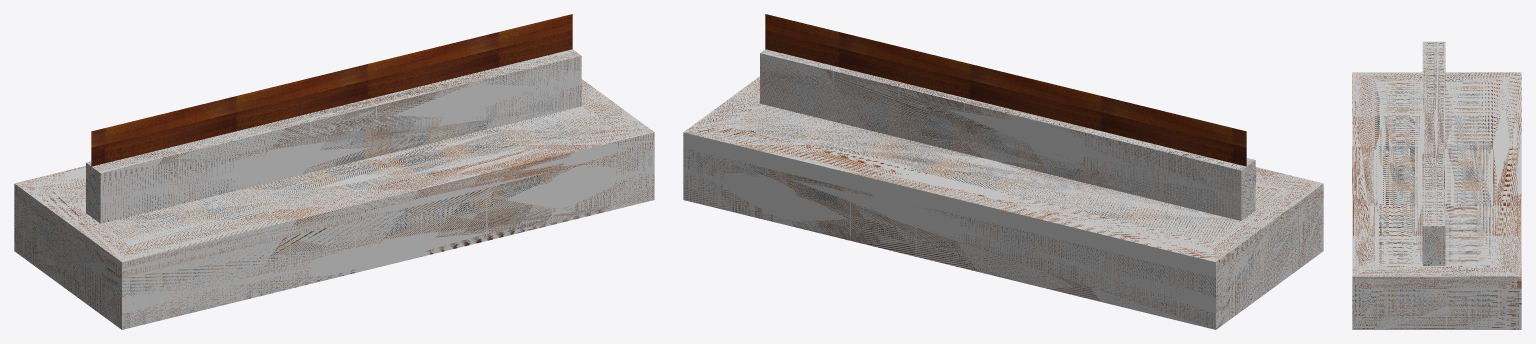
The picture shows the model from 3 angles, left to right: view 1: azimuth 30°, elevation 25°; view 2: azimuth 150°, elevation 25°; view 3: azimuth 270°, elevation 25°; orthographic projection. The views are drawn at different scales.
Parts seen in each view (by area): view 1: mesh1_mesh1-geometry; view 2: mesh1_mesh1-geometry; view 3: mesh1_mesh1-geometry.
Boxes of the visible parts, <box> form: mesh1_mesh1-geometry: <box>14,14,654,329</box>; mesh1_mesh1-geometry: <box>683,14,1323,329</box>; mesh1_mesh1-geometry: <box>1352,41,1521,329</box>.
Bounding box in the file's own units: 0.9134 × 0.2514 × 0.3201.
